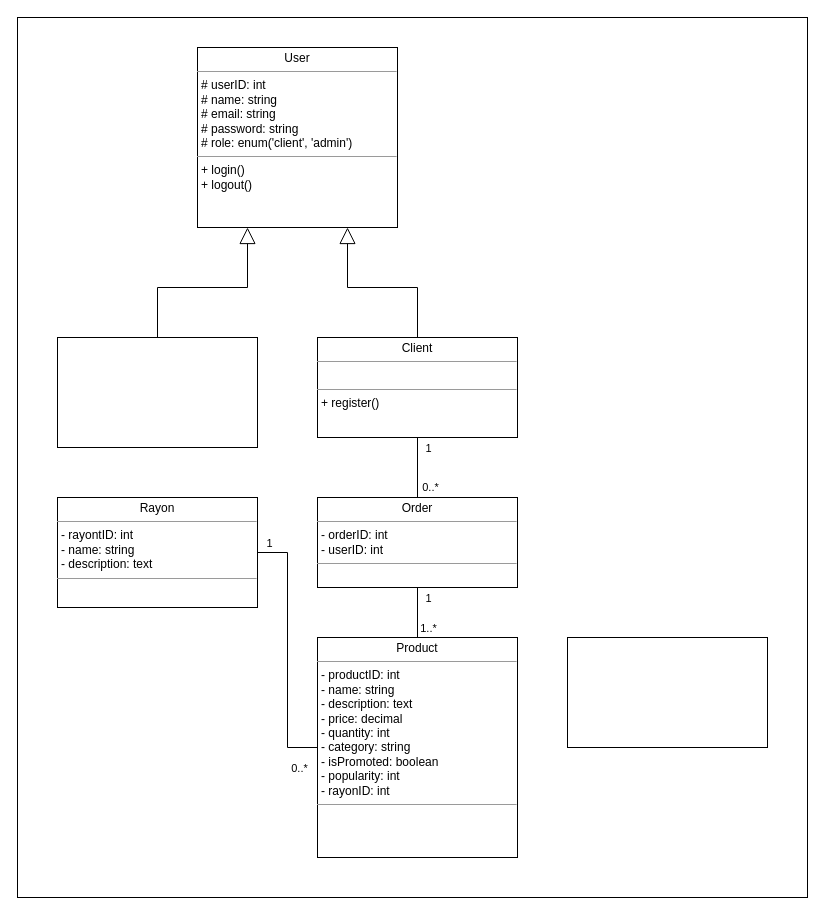
Image size: 825x915. Some labels were removed from this diagram. The shapes that lost their labels are listed below. From the top down, each one's box as (x1, y1, x2, y2) in pixels, then its label:
(56, 336, 258, 448): Admin + + +
(566, 636, 768, 748): OrderProduct - orderID: int - productID: int - quantity: int
